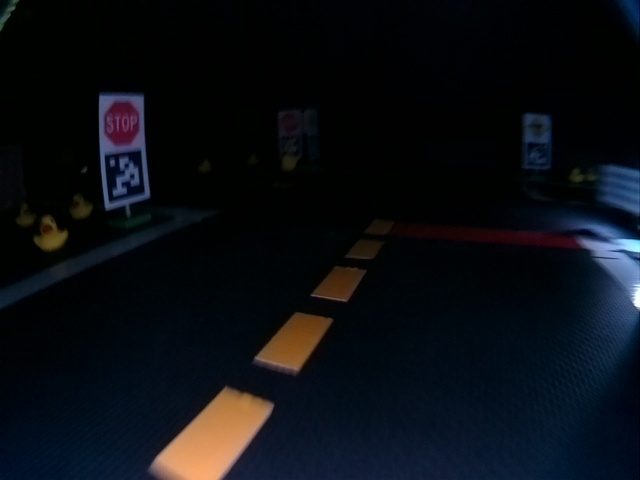Duckie: (34, 216, 66, 250), (70, 195, 91, 218), (17, 204, 35, 226), (281, 155, 296, 169), (570, 169, 583, 183)
Intersection sign: (528, 117, 548, 139)
QR code: (104, 150, 145, 204), (527, 142, 549, 166), (281, 136, 299, 152)
Stop sign: (103, 100, 140, 142), (281, 112, 298, 131)
